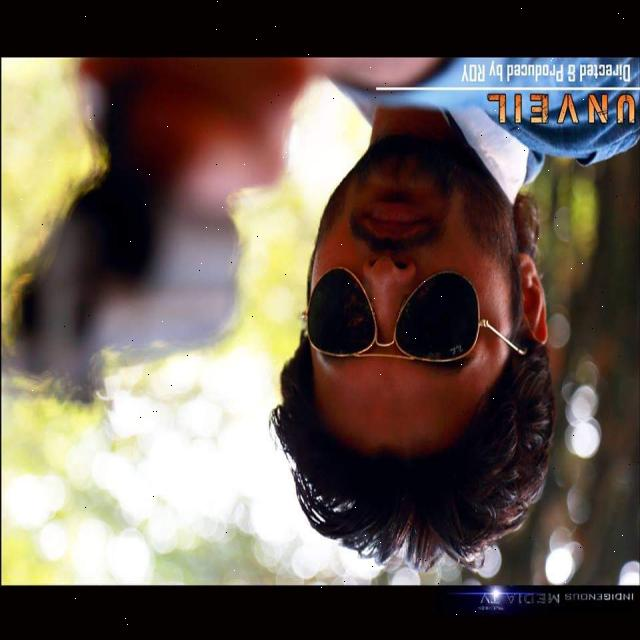gun: (9, 68, 261, 422)
